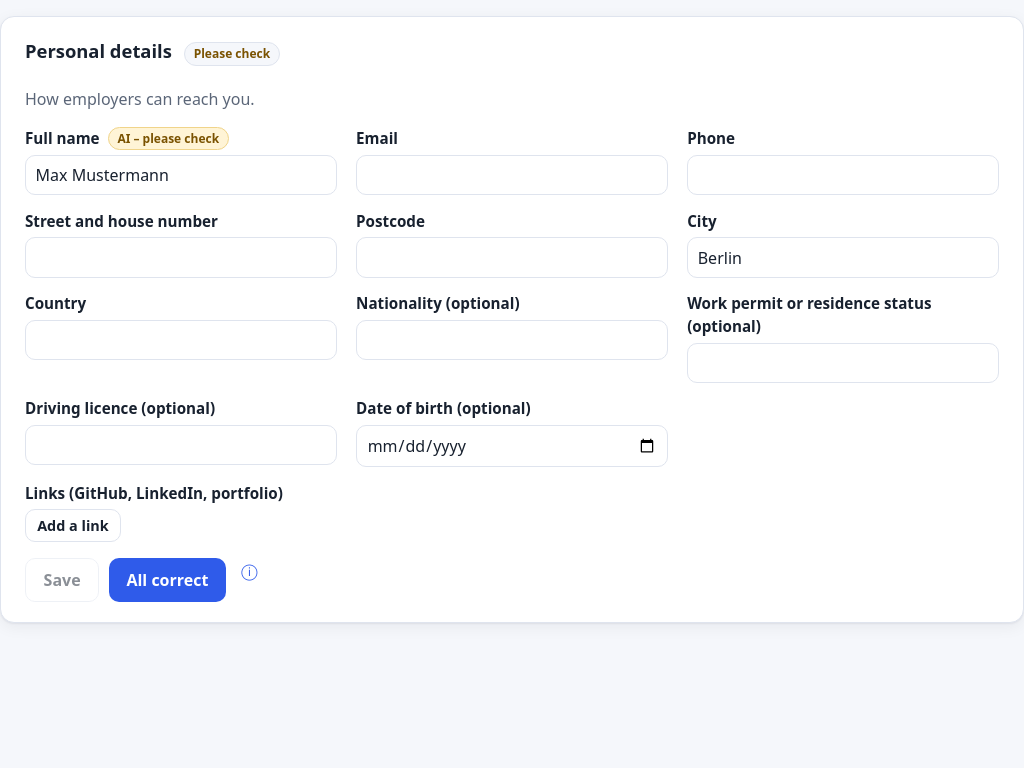
Test: SectionCard › keeps what the person typed when saving fails
The width and height of the screenshot is (1024, 768).
Replace the text in the field labelled "City" with "Dresden" at [843, 258], box [687,237,999,278]
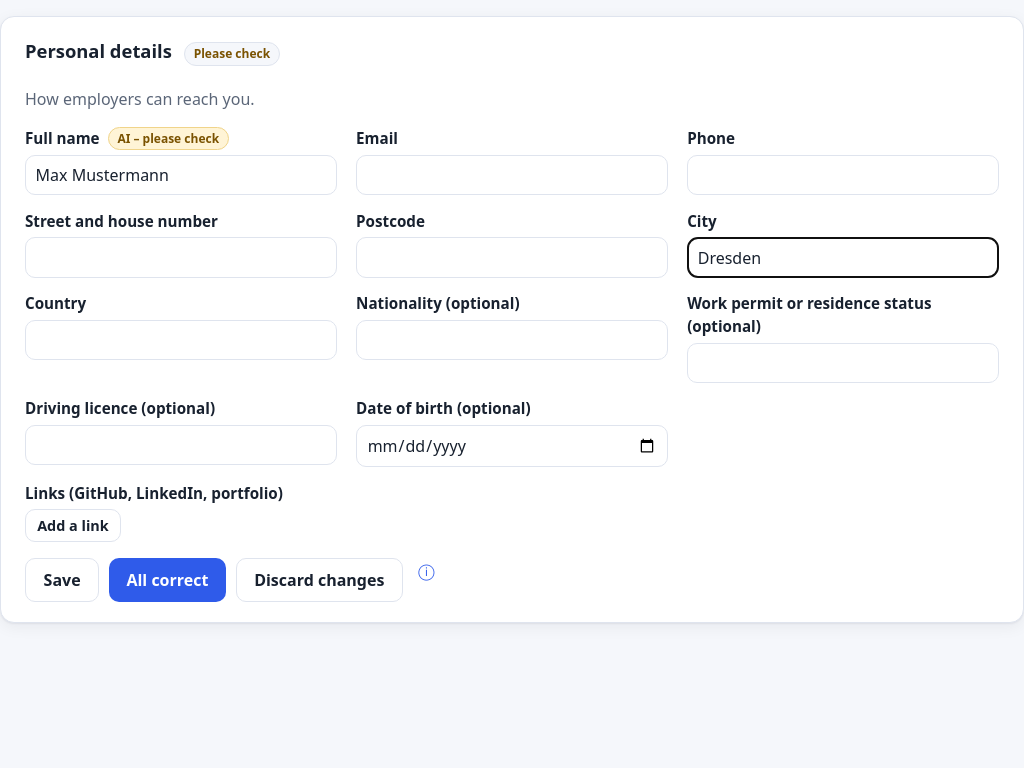
Click the button "Save".
click(62, 580)  # box [25,558,99,602]
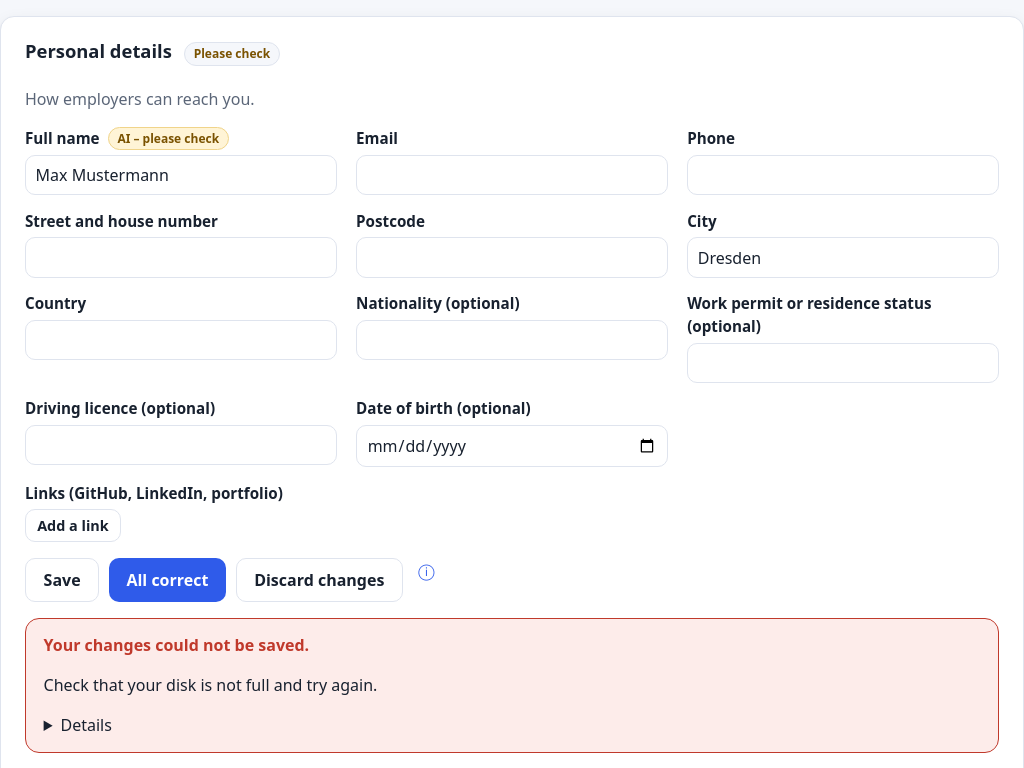
Check: the text "Your changes could not be saved." is shown, box [44,634,309,656]
